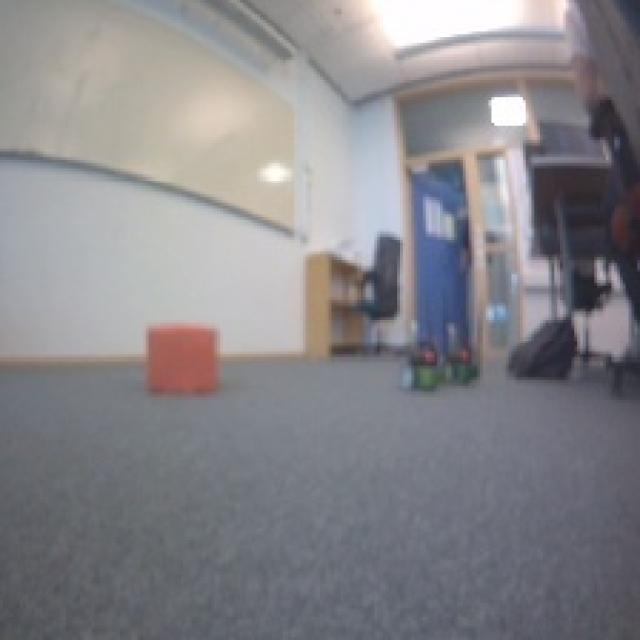robot: (395, 343, 443, 393), (438, 343, 485, 388)
target: (143, 320, 220, 394)
